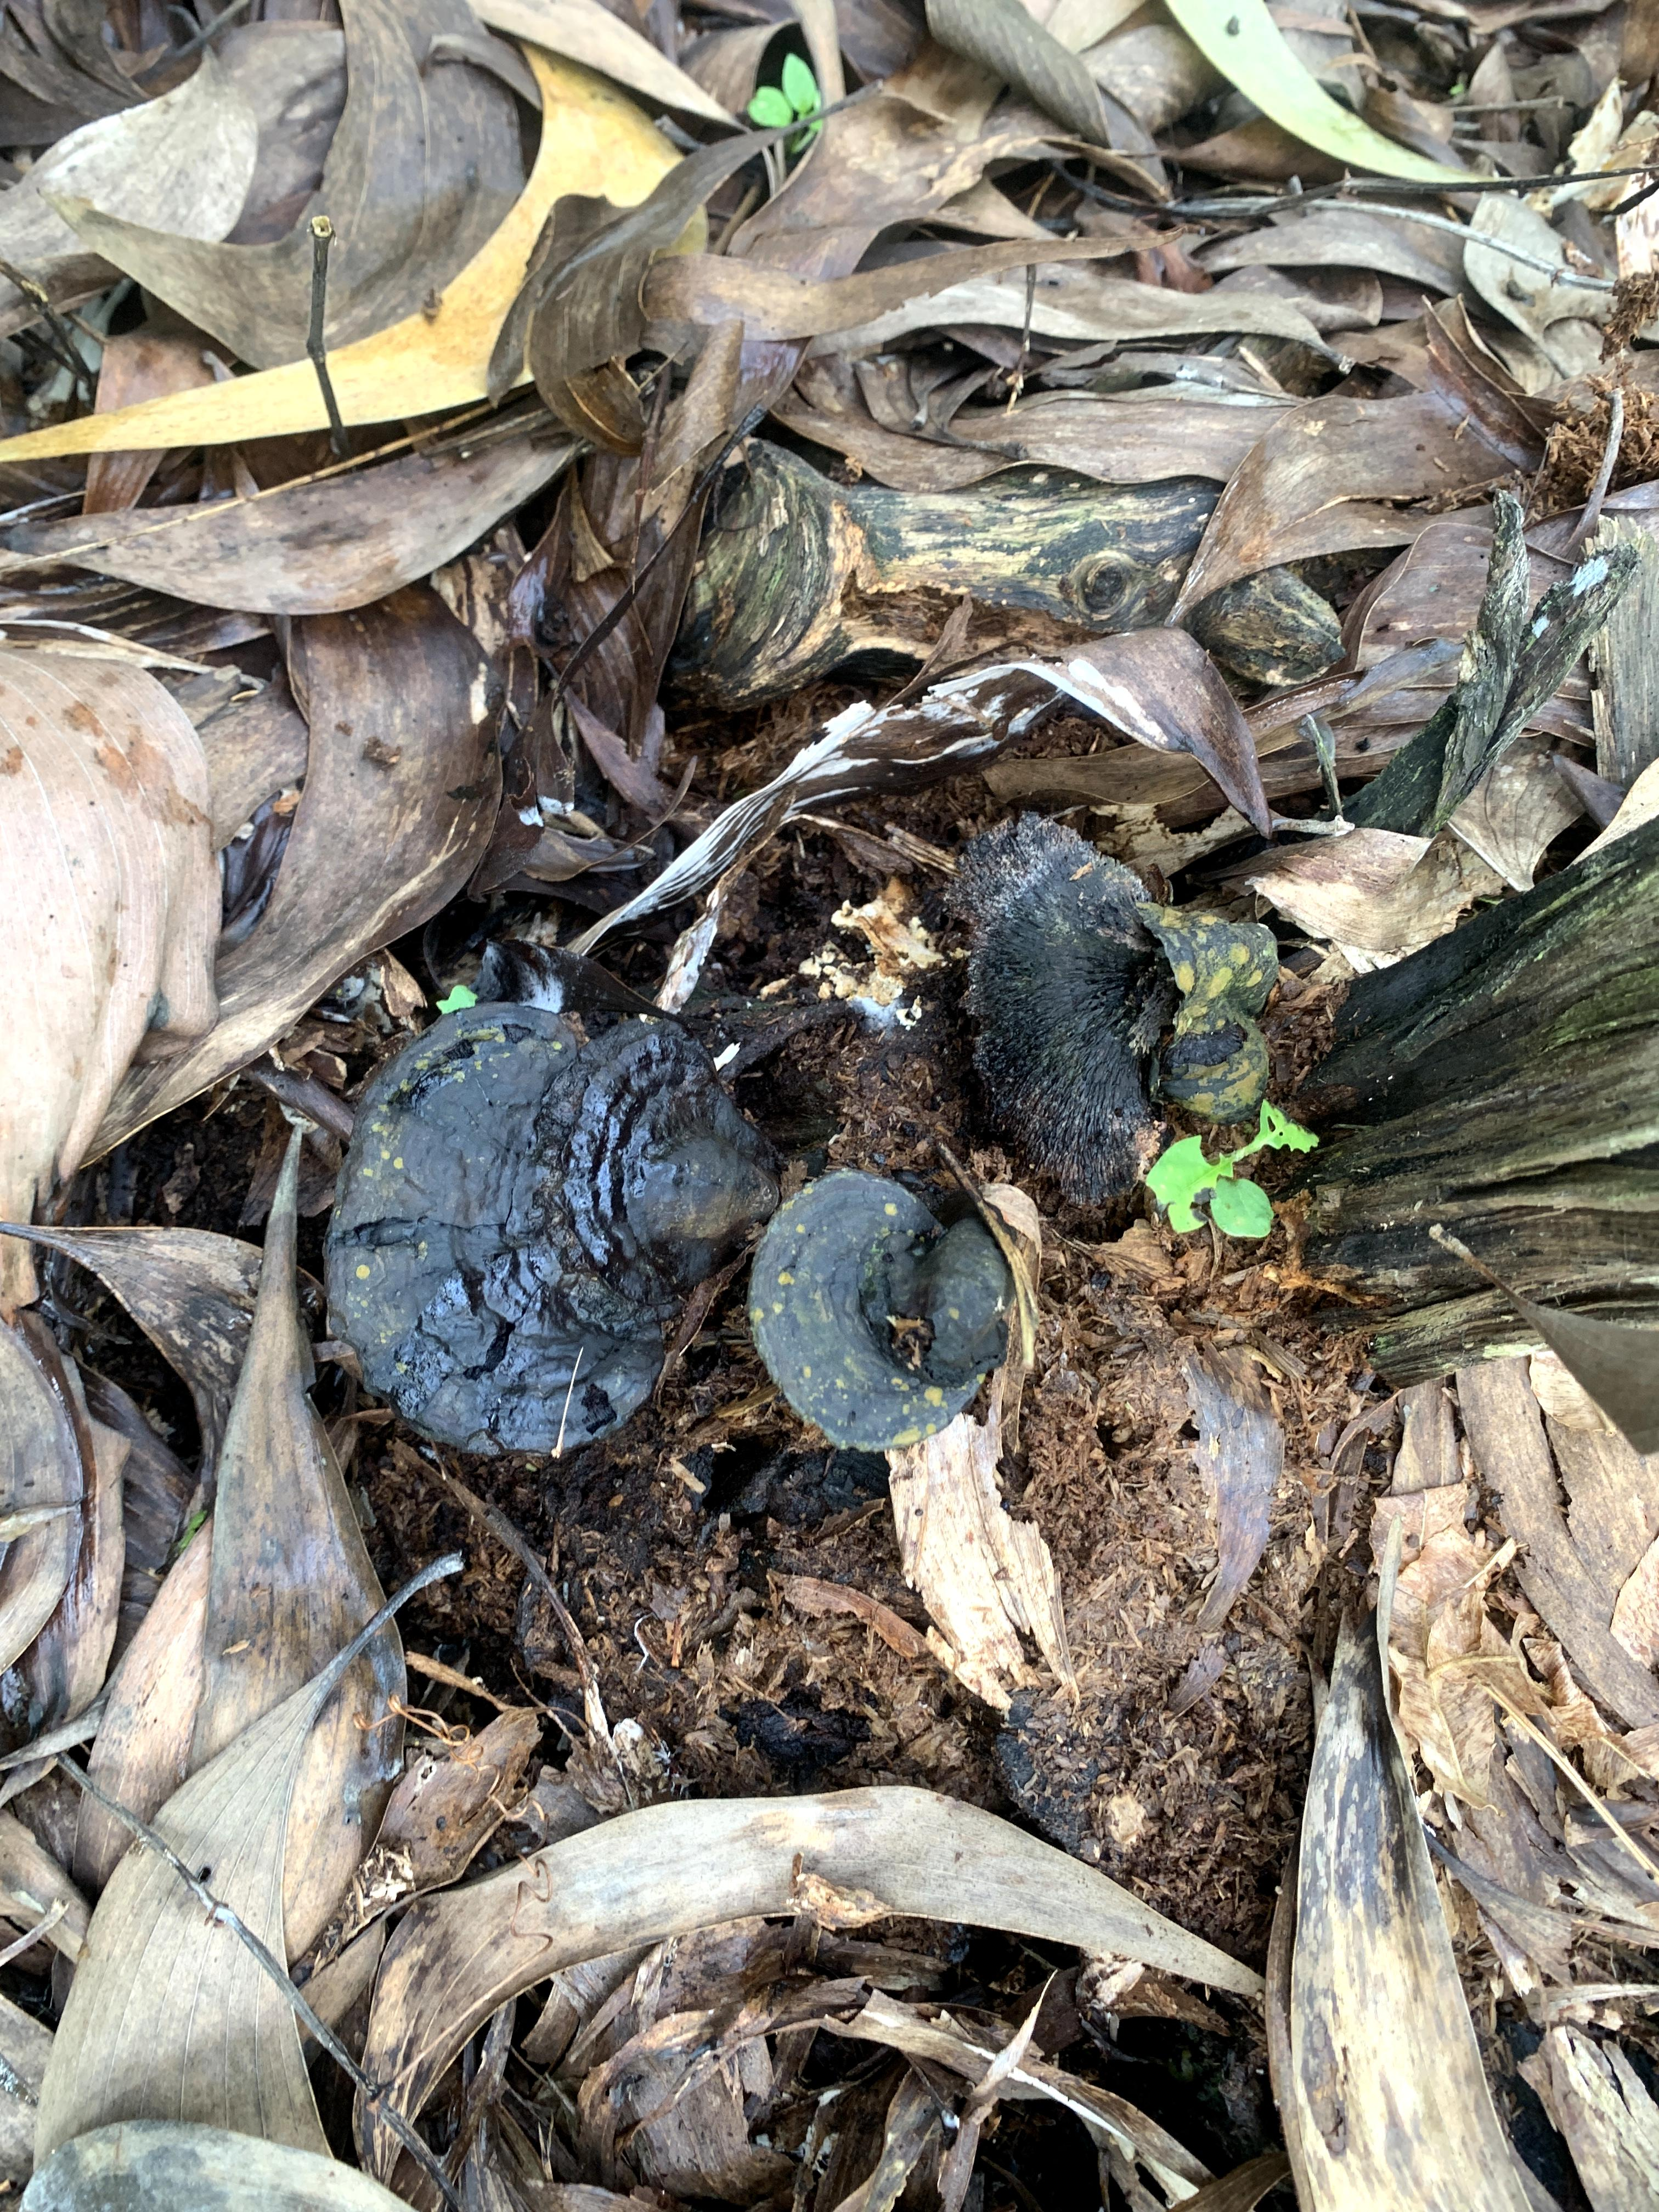Ganoderma - Fruit Body: (336, 995, 723, 1463), (758, 1148, 999, 1440)
